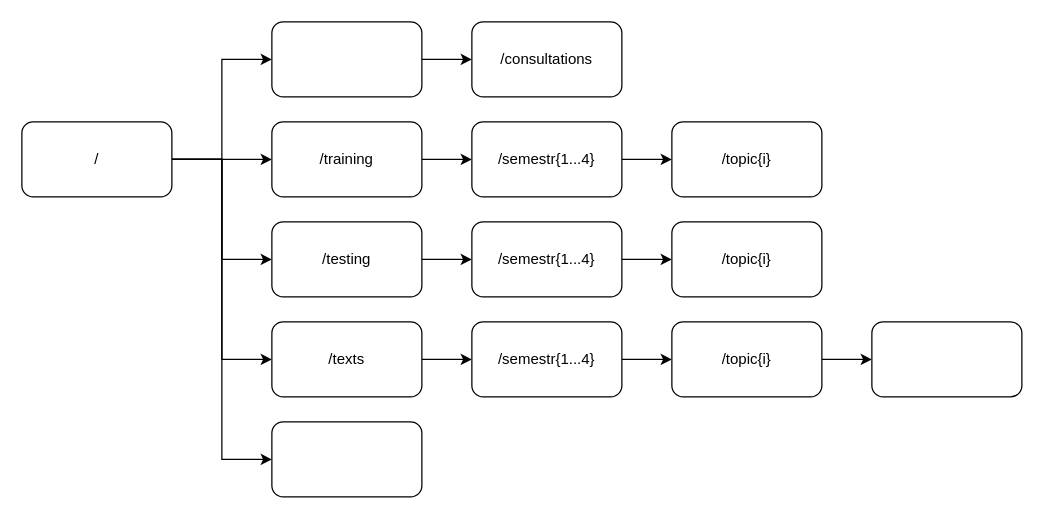
Image size: 1044x519. Some labels were removed from this diagram. Each missing label, with the centre of its shape:
"/home" belongs at [346,59].
"/questions" belongs at [346,459].
"/{name_text}" belongs at [946,359].
